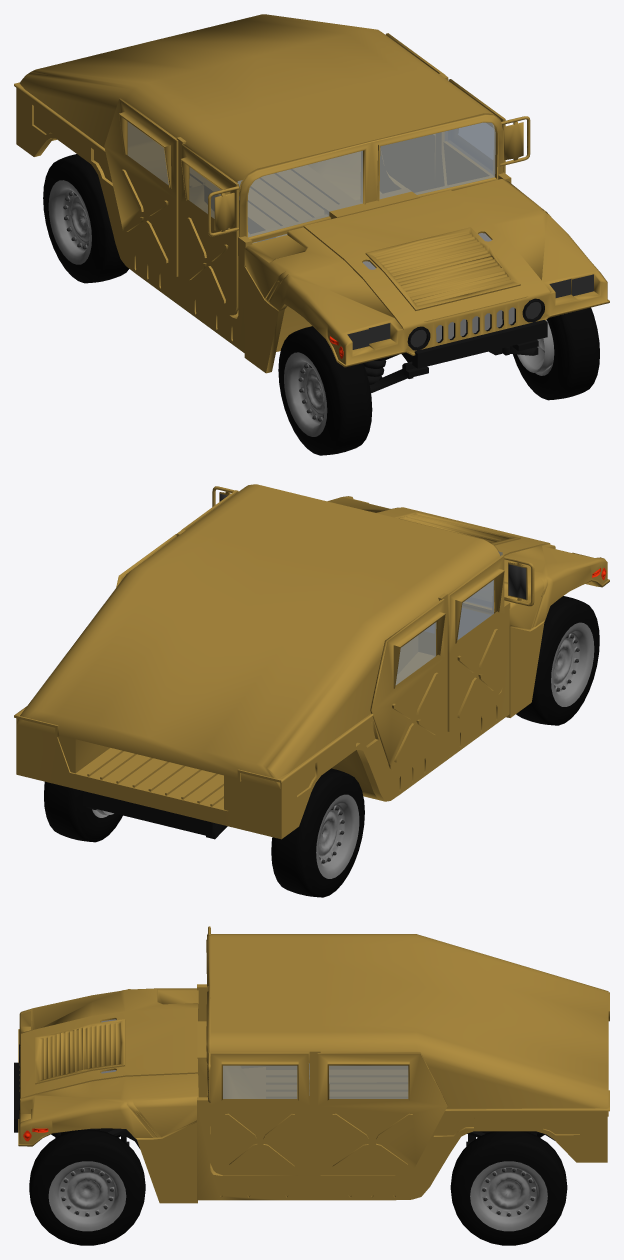
The model's file is Humvee.obj.
3 views of the same model, one above another, from view 1: azimuth 30°, elevation 25°; view 2: azimuth 150°, elevation 25°; view 3: azimuth 270°, elevation 25° (orthographic). The views are drawn at different scales.
Visible parts, largest first — view 1: body, tires, glass_2, rims, glass_1, glass; view 2: body, tires, rims, glass_1, glass_2; view 3: body, tires, rims, glass.
Boxes of the visible parts, x1,y1,x2,y2 form: body: (14, 14, 609, 393); tires: (43, 154, 599, 455); glass_2: (237, 122, 495, 243); rims: (48, 180, 554, 436); glass_1: (127, 122, 228, 228); glass: (445, 123, 493, 173); body: (14, 484, 609, 839); tires: (44, 596, 599, 897); rims: (92, 622, 594, 878); glass_1: (395, 580, 493, 685); glass_2: (425, 551, 502, 638); body: (14, 926, 609, 1203); tires: (29, 1129, 567, 1245); rims: (48, 1161, 547, 1231); glass: (223, 1063, 408, 1098).
Size of the model in its own units: 184 by 126 by 330.
